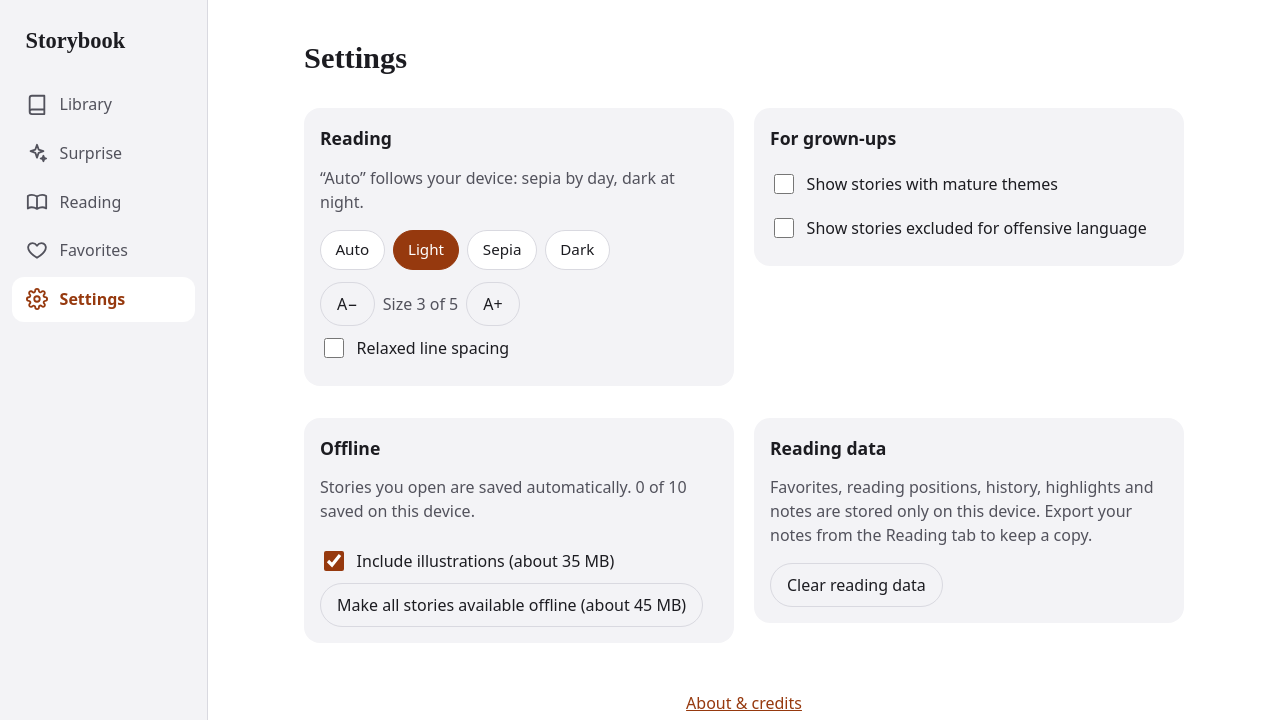
Scenario: SettingsPage › clears reading data only after confirming
The width and height of the screenshot is (1280, 720).
Step 1. Click the button "Clear reading data" → (856, 585), box [770,563,943,607]
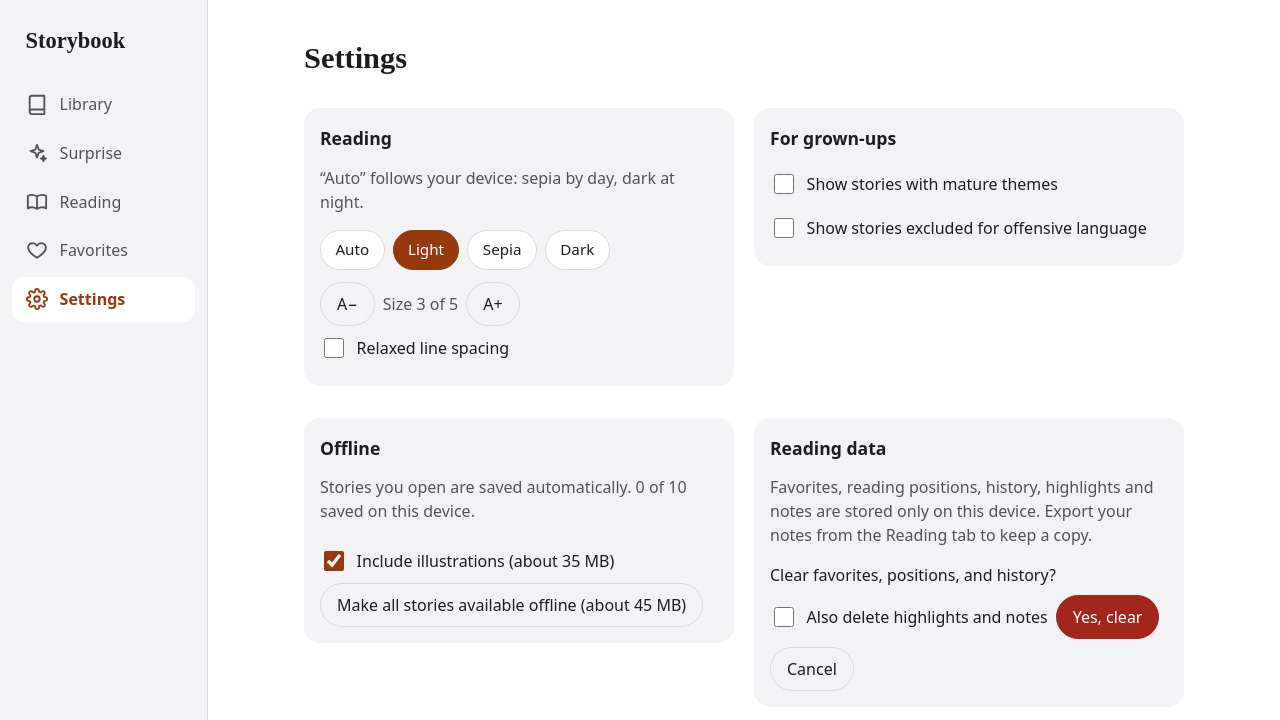
Step 2. Click the button "Cancel" → (812, 669), box [770,647,854,691]
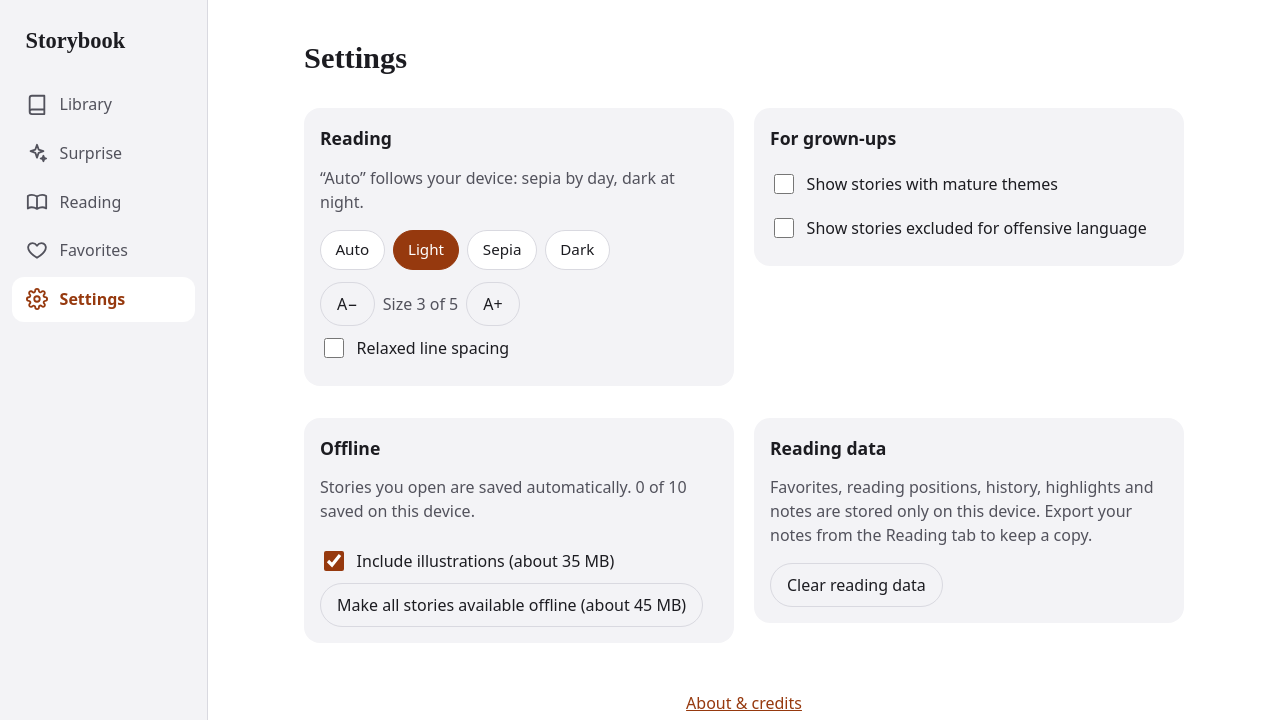
Step 3. Click the button "Clear reading data" → (856, 585), box [770,563,943,607]
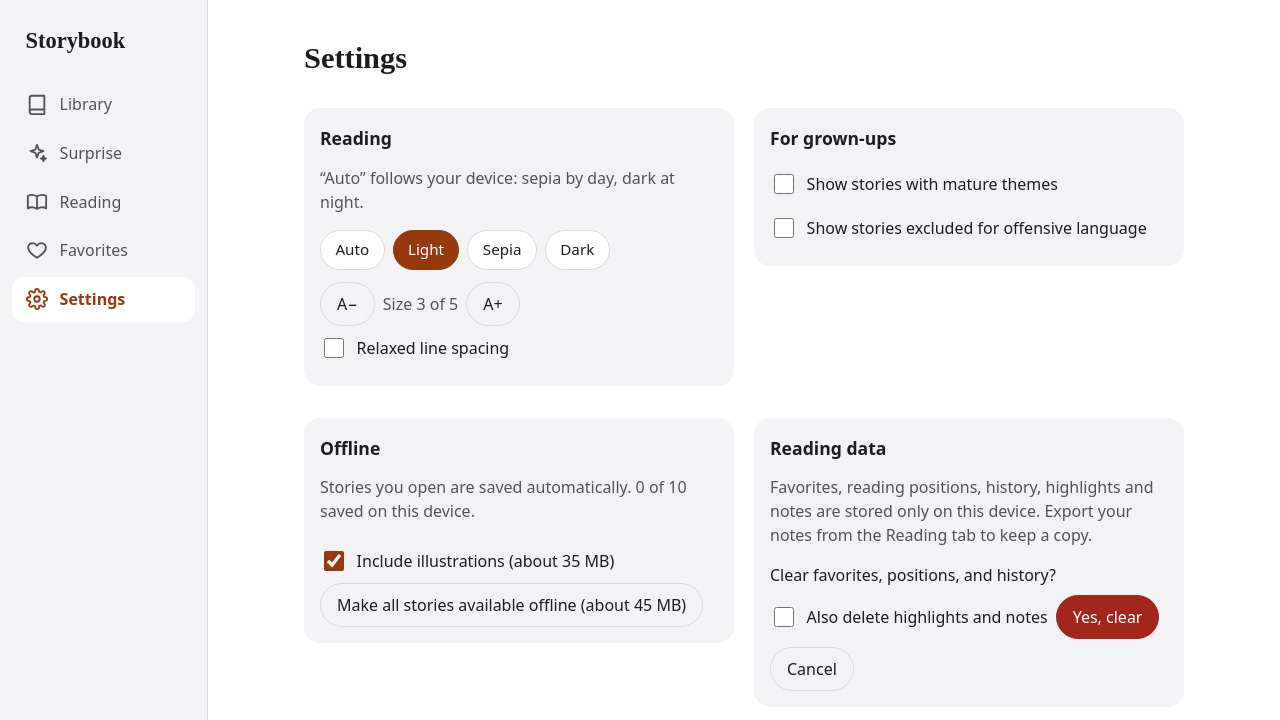
Step 4. Click the button "Yes, clear" → (1108, 617), box [1056,595,1160,639]
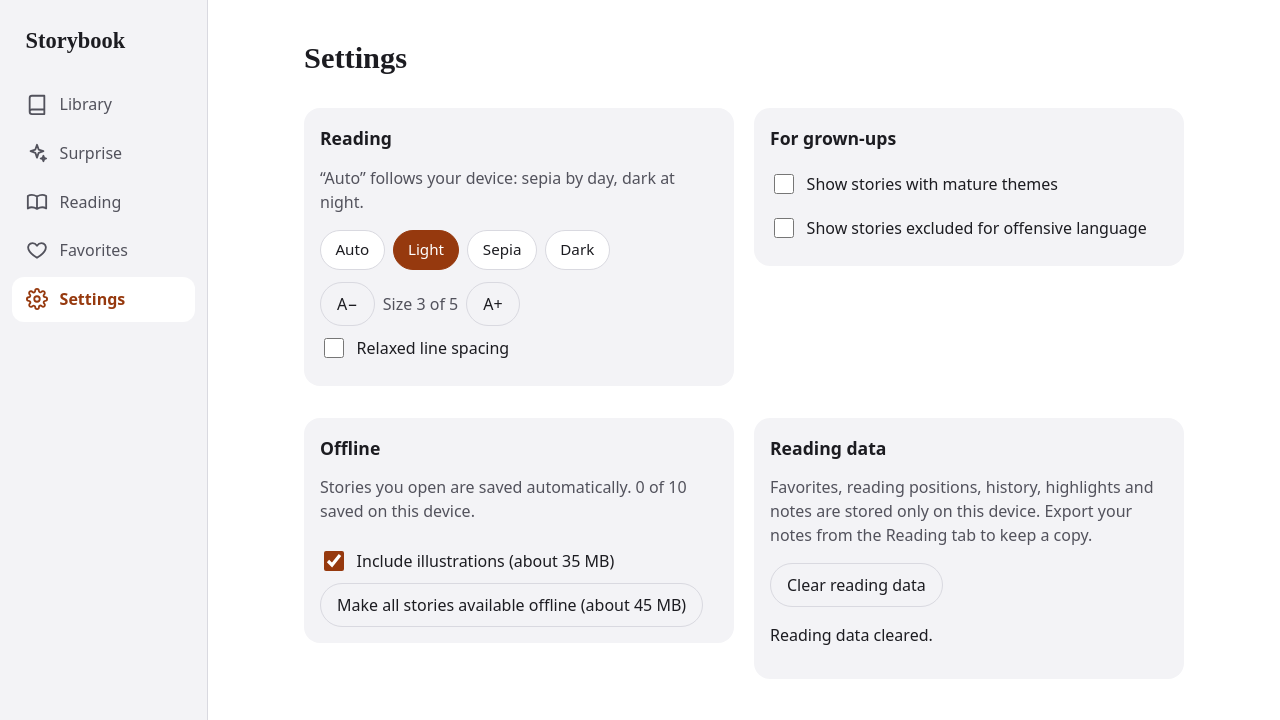
Expected: the message reads "Reading data cleared.", [770,624,933,646]
